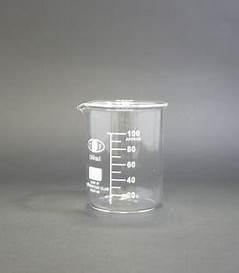Beaker: (71, 91, 171, 222)
